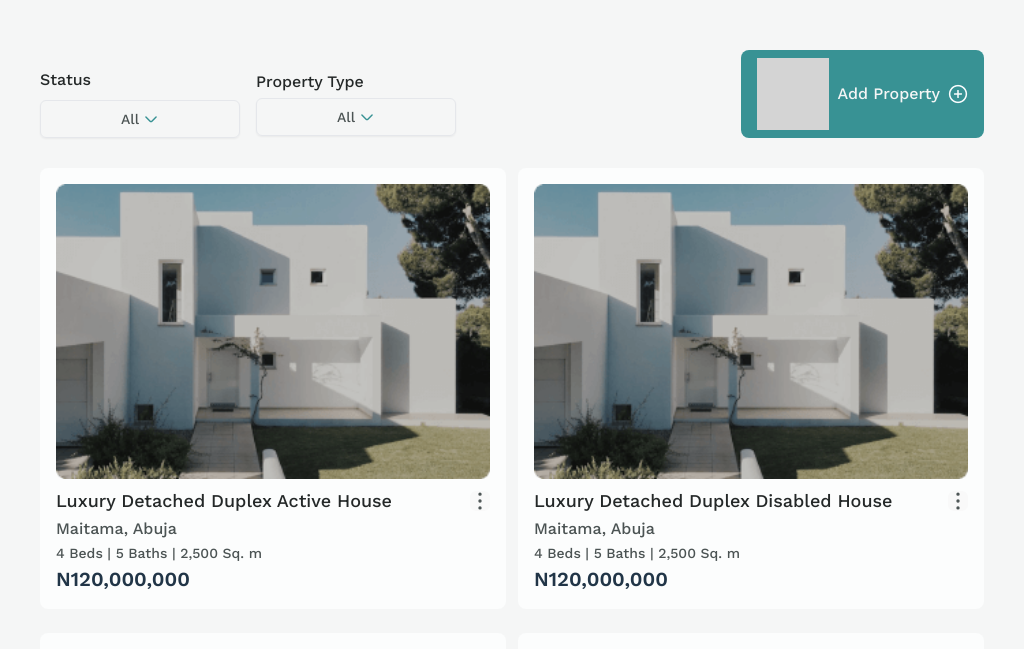
Test: PropertiesFilterDropDown behavior › should show the dropdown menu when button is clicked
Click the button with test id "properties-filter-dropdown-trigger" at (140, 119), box [40,100,240,138]
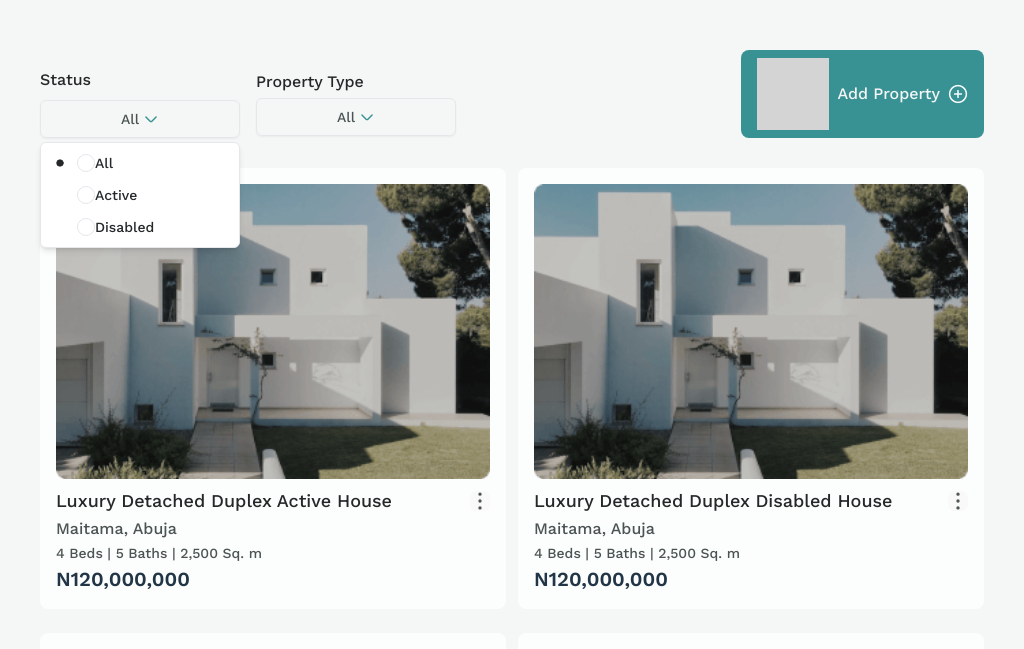
Result: the menu with test id "properties-filter-dropdown-menu" is shown at [40,142,240,248]
